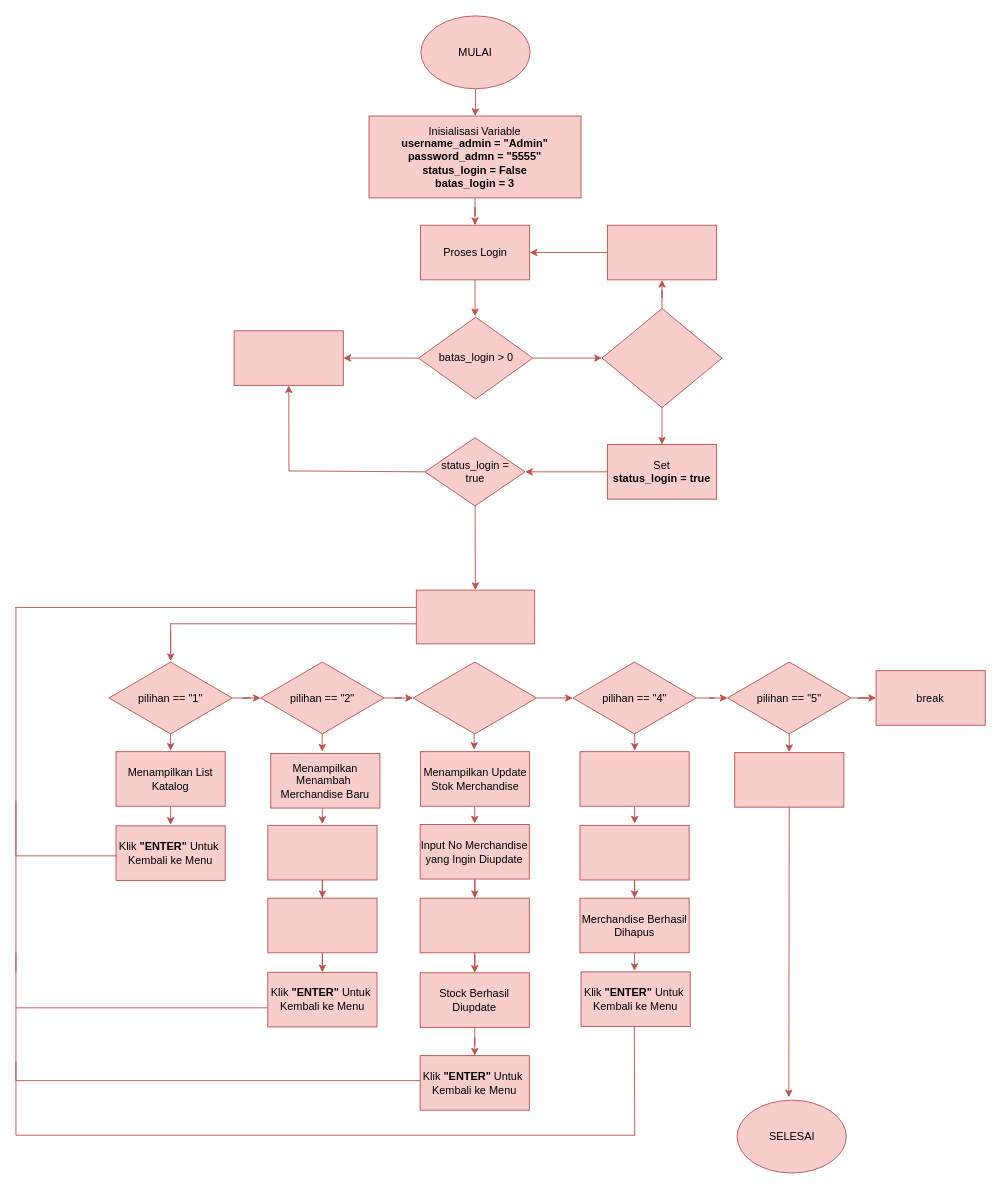
Image size: 1002x1189. Some labels were removed from this diagram. The box of each missing label's shape, as (x1, y1, x2, y2) in pixels:
batas_login =-1: (607, 224, 717, 280)
Input Detail Merchandise Baru: (267, 824, 377, 880)
Input Jumlah Stock Baru: (419, 897, 529, 953)
Input No Merchandise yang Ingin Dihapus: (579, 824, 689, 880)
Input Username dan Password: (601, 308, 722, 408)
Menampilkan Display Menu: (415, 589, 535, 644)
Menampilkan Hapus Merchandise: (579, 751, 689, 806)
Menampilkan Pesan "Anda Gagal Login": (233, 330, 343, 385)
Menampilkan Pesan "Anda memilih Keluar. Terimakasih": (734, 752, 844, 807)
Merchandise Berhasil Ditambahkan: (267, 897, 377, 953)
pilihan == "3": (412, 661, 536, 734)
